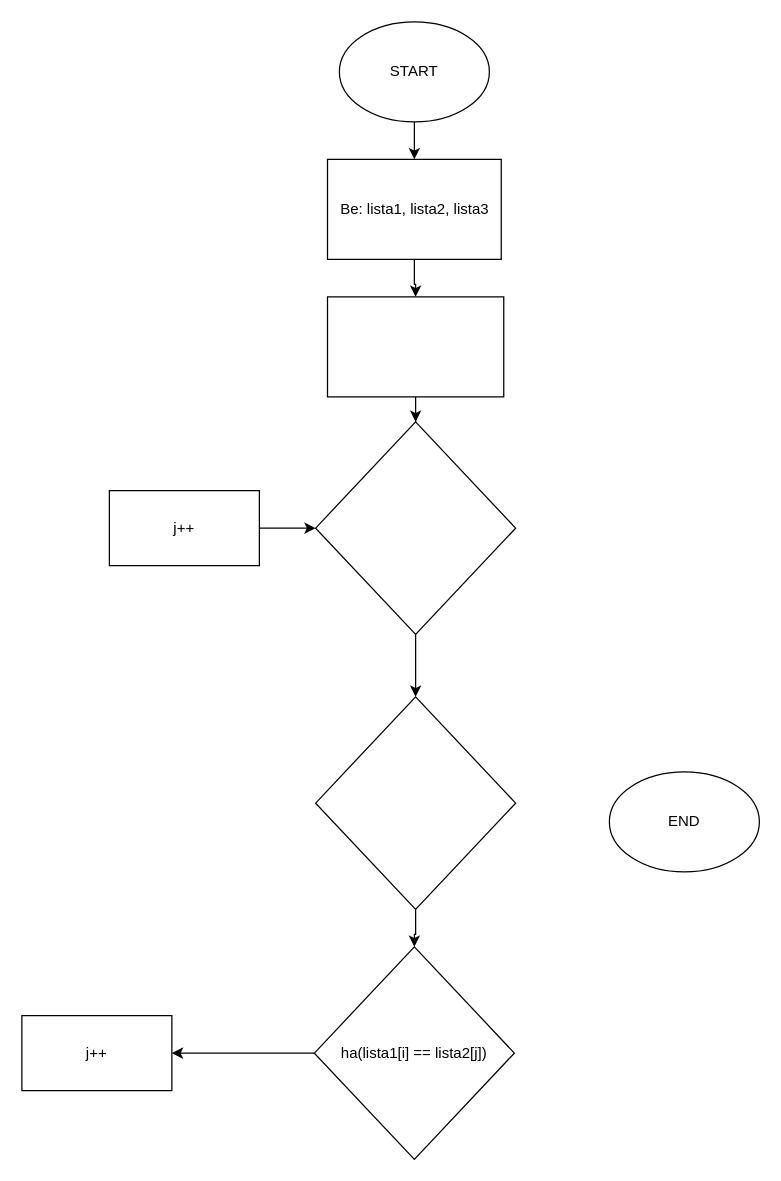
Some shapes in this 781 by 1181 pixel diagram are drawn without their labels. Here are the shapes that lost their labels. From the top down, the box of each, then its label:
(326, 296, 504, 397): i = 0 c = 0
(314, 421, 516, 634): i = hossz(lista1)
(314, 696, 516, 909): j = hossz(lista2)
